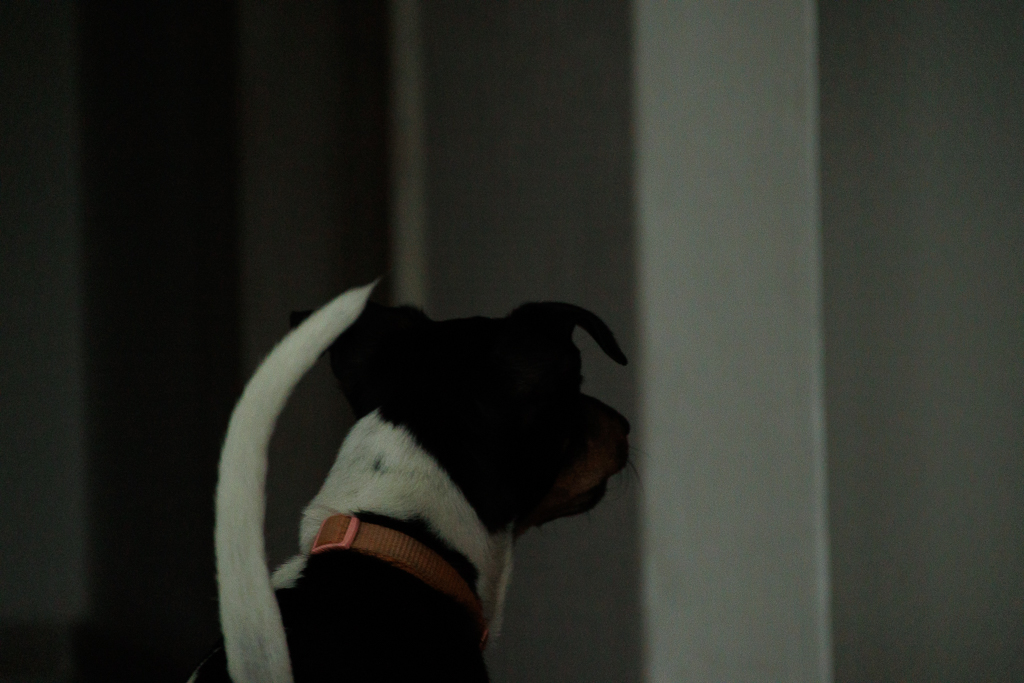Dog: (197, 265, 650, 683)
